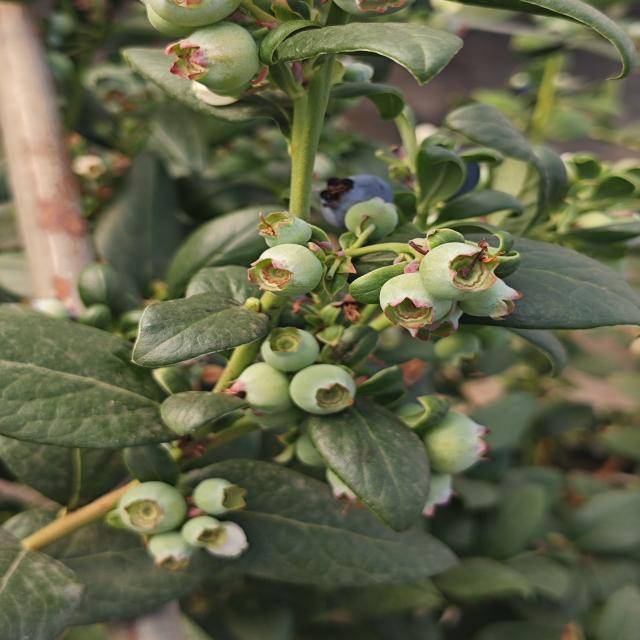ripe: (315, 169, 402, 233), (419, 139, 496, 203)
